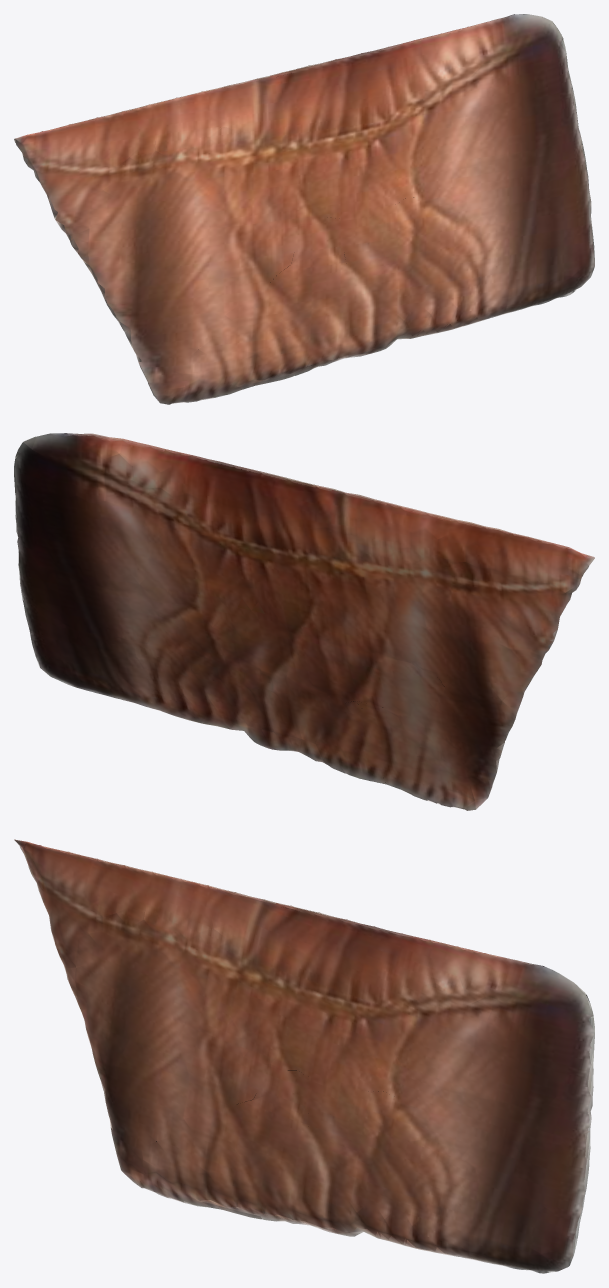
The model's file is 10_23_40_21_a-single-brown-herringbone-harris-tweed-jacket-with-leather-elbow-patches.glb.
3 views of the same model, one above another, from view 1: azimuth 30°, elevation 25°; view 2: azimuth 150°, elevation 25°; view 3: azimuth 330°, elevation 25° (orthographic). The views are drawn at different scales.
Visible parts, largest first — view 1: world; view 2: world; view 3: world.
Boxes of the visible parts, left/top/right/bottom form: world: left=14, top=14, right=594, bottom=404; world: left=14, top=433, right=594, bottom=810; world: left=14, top=839, right=594, bottom=1273.
Size of the model in its own units: 0.9215 by 0.4586 by 0.105.
Materials: 1 (1 with a texture image).
